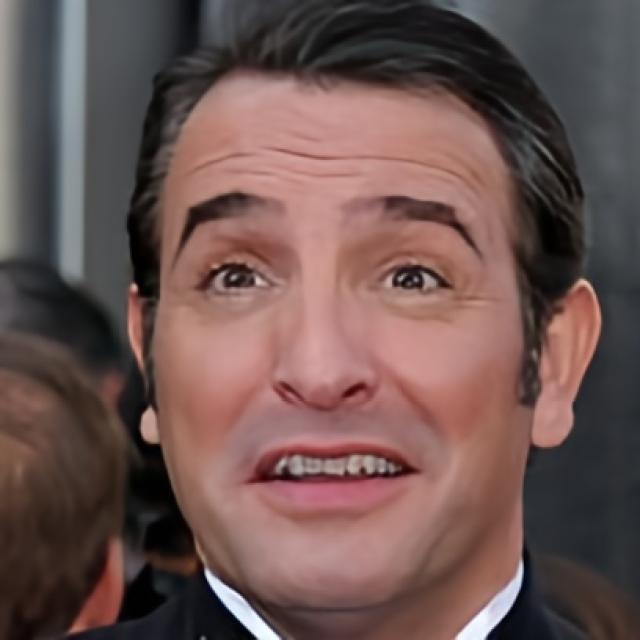surprise: (150, 64, 532, 614)
